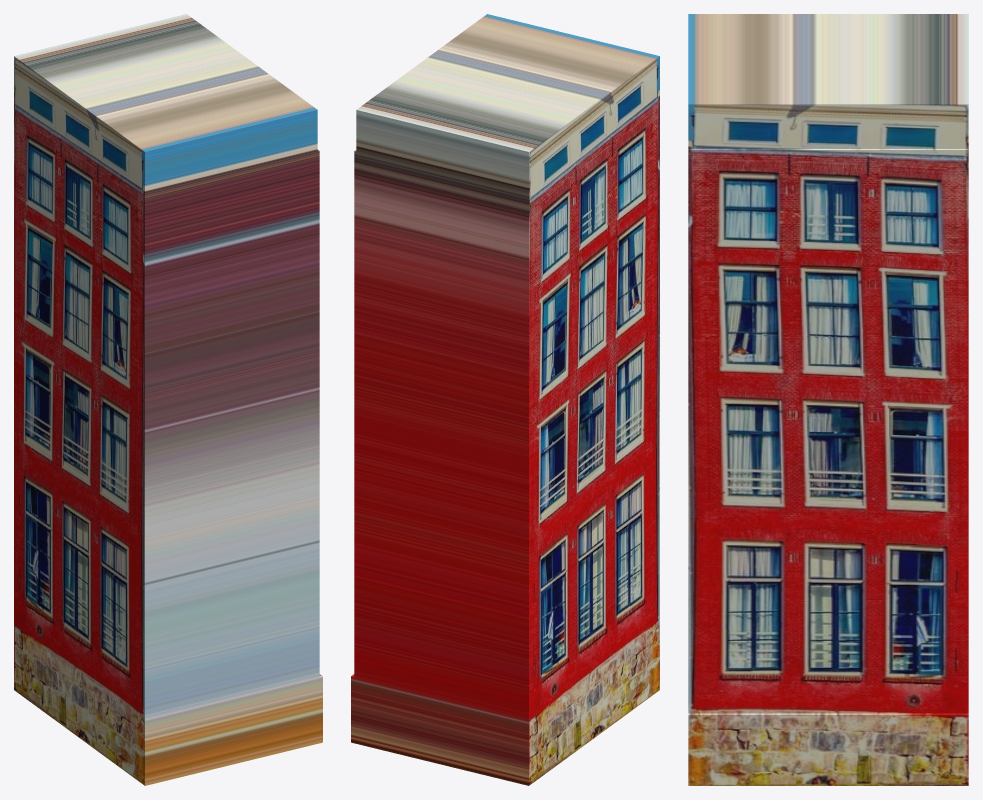
The model's file is Building2.fbx.
3 renders of one model, left to right at view 1: azimuth 30°, elevation 25°; view 2: azimuth 150°, elevation 25°; view 3: azimuth 270°, elevation 25°, orthographic. The views are drawn at different scales.
Parts seen in each view (by area): view 1: 988f8a570540788723d9cbaf4f315afa2; view 2: 988f8a570540788723d9cbaf4f315afa2; view 3: 988f8a570540788723d9cbaf4f315afa2.
Boxes of the visible parts, box(x1,y1,x2,y2) form: 988f8a570540788723d9cbaf4f315afa2: box(14, 14, 322, 785); 988f8a570540788723d9cbaf4f315afa2: box(351, 14, 659, 785); 988f8a570540788723d9cbaf4f315afa2: box(688, 14, 968, 785).
Size of the model in its own units: 323 by 1100 by 412.
1 material, 1 textured.
